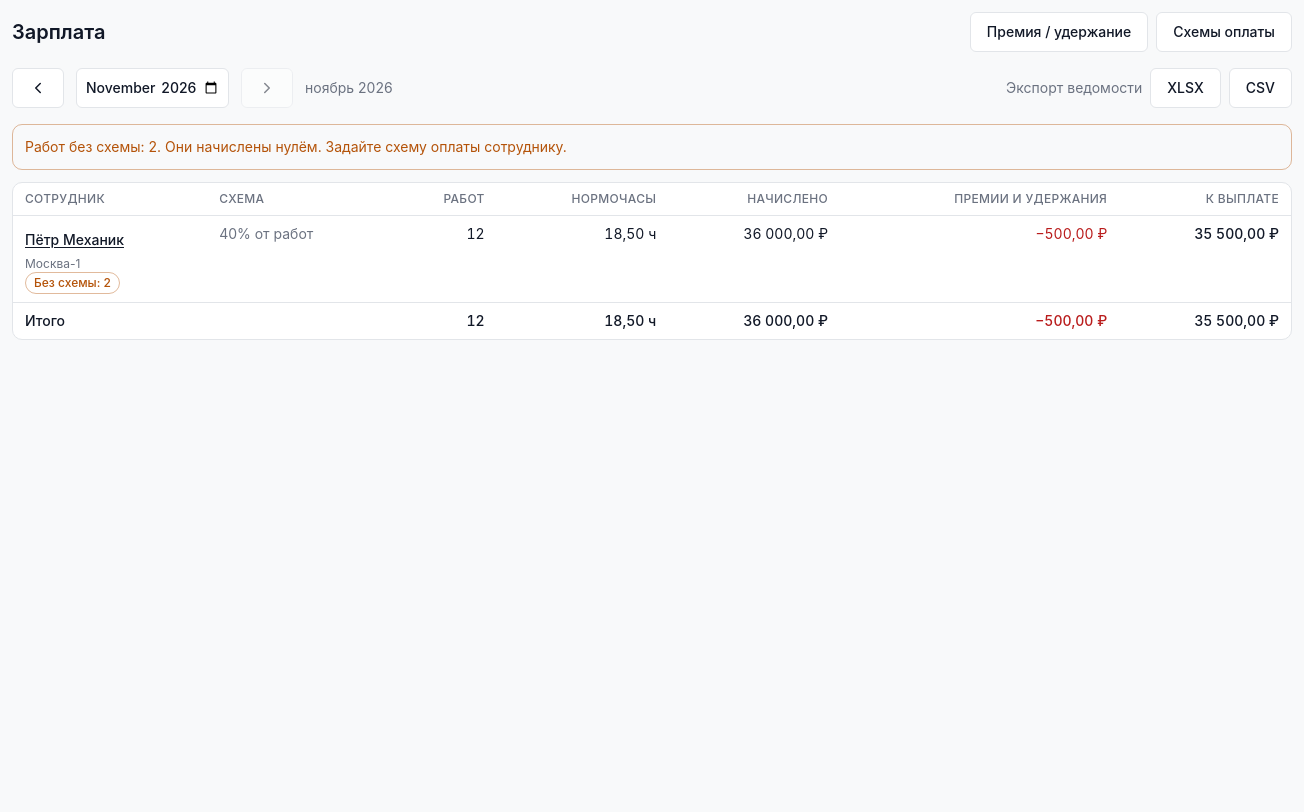
Scenario: D-03 зарплата › ведомость: итоги, предупреждение о работах без схемы, раскрытие сотрудника
Check: the heading "Зарплата" is shown, box [12,18,105,46]
Check: the message shows "Работ без схемы: 2", box [12,124,1292,170]
Click the button "Пётр Механик". click: {"x": 74, "y": 240}
box: [25,224,124,256]
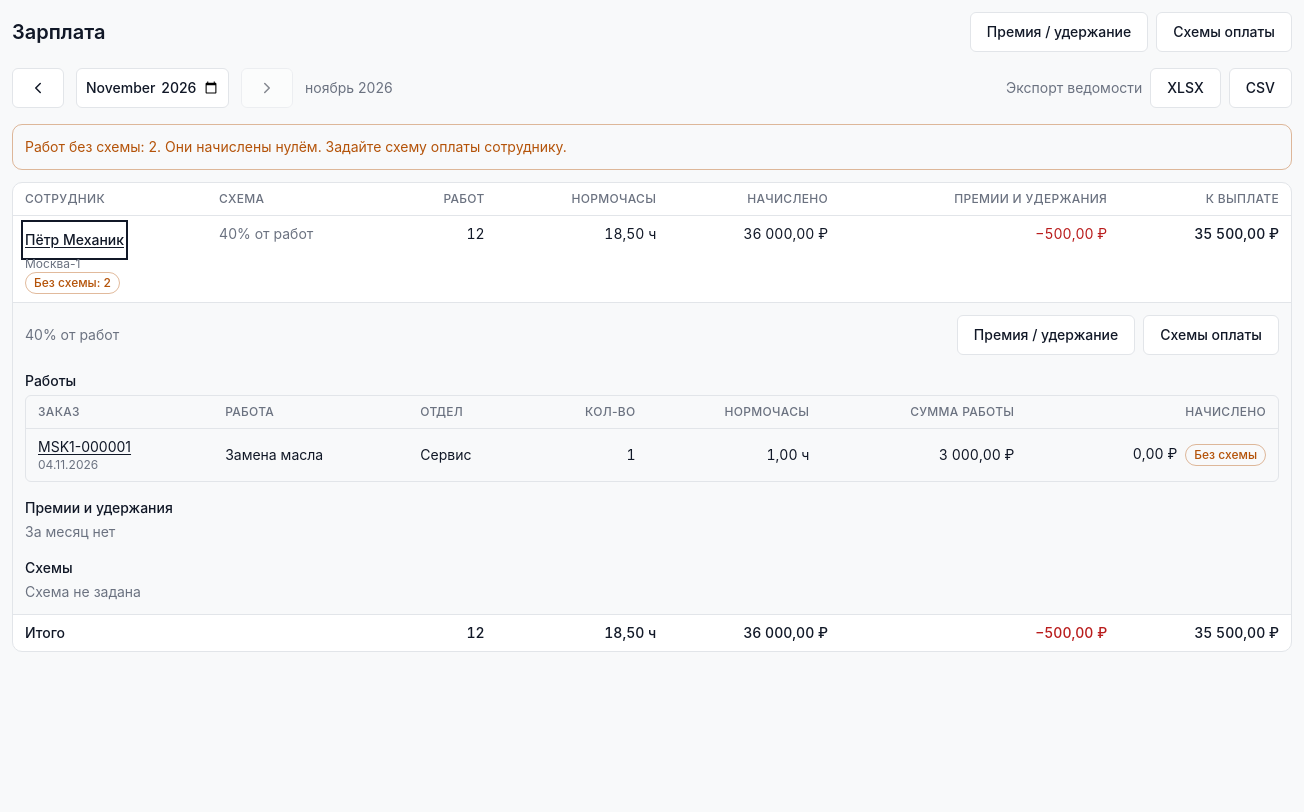
Check: the text "Без схемы" is shown, box [1185,444,1266,466]
